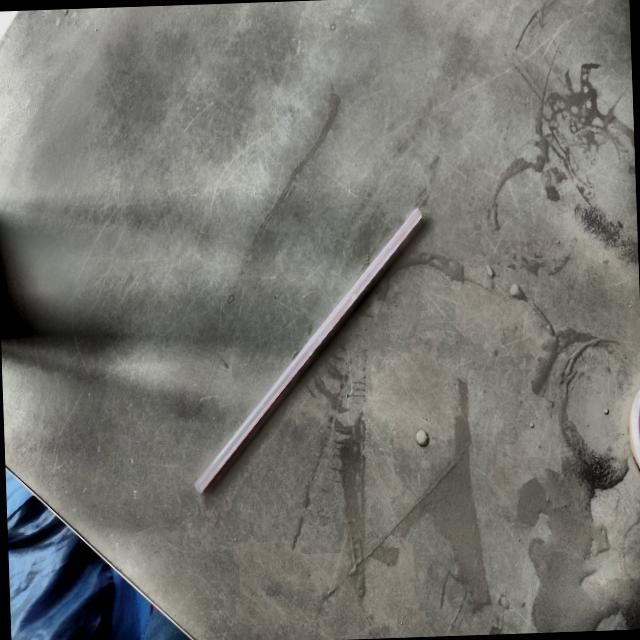plastic straw: (194, 208, 420, 491)
